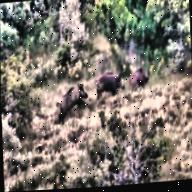boar: (92, 68, 125, 106), (54, 83, 89, 116), (127, 67, 153, 99)
